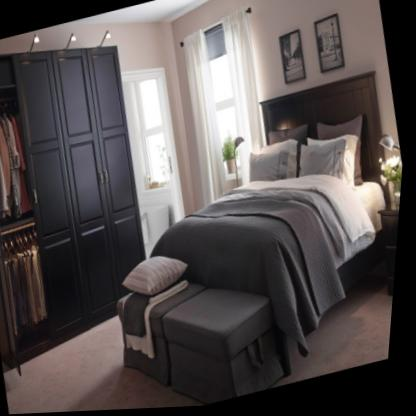Bed: (154, 76, 393, 338)
Closet: (0, 46, 150, 367)
Curtains: (184, 31, 230, 208), (221, 9, 267, 185)
Nightstand: (381, 206, 403, 300)
